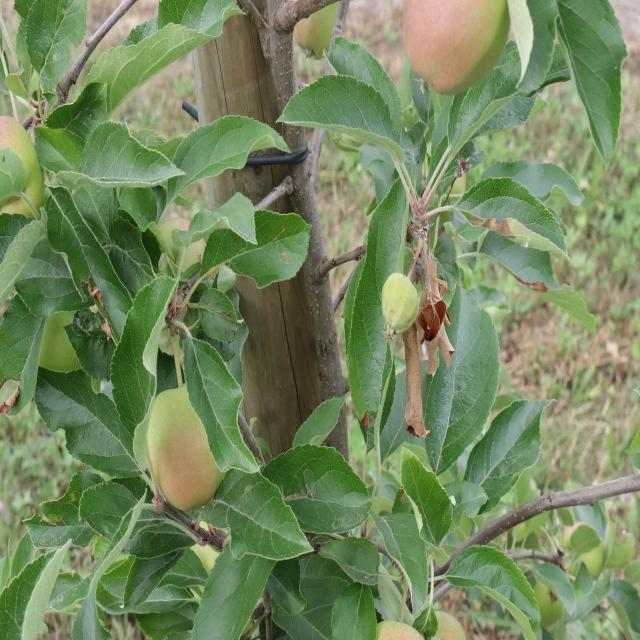-FireBlight-: (396, 207, 456, 437)
